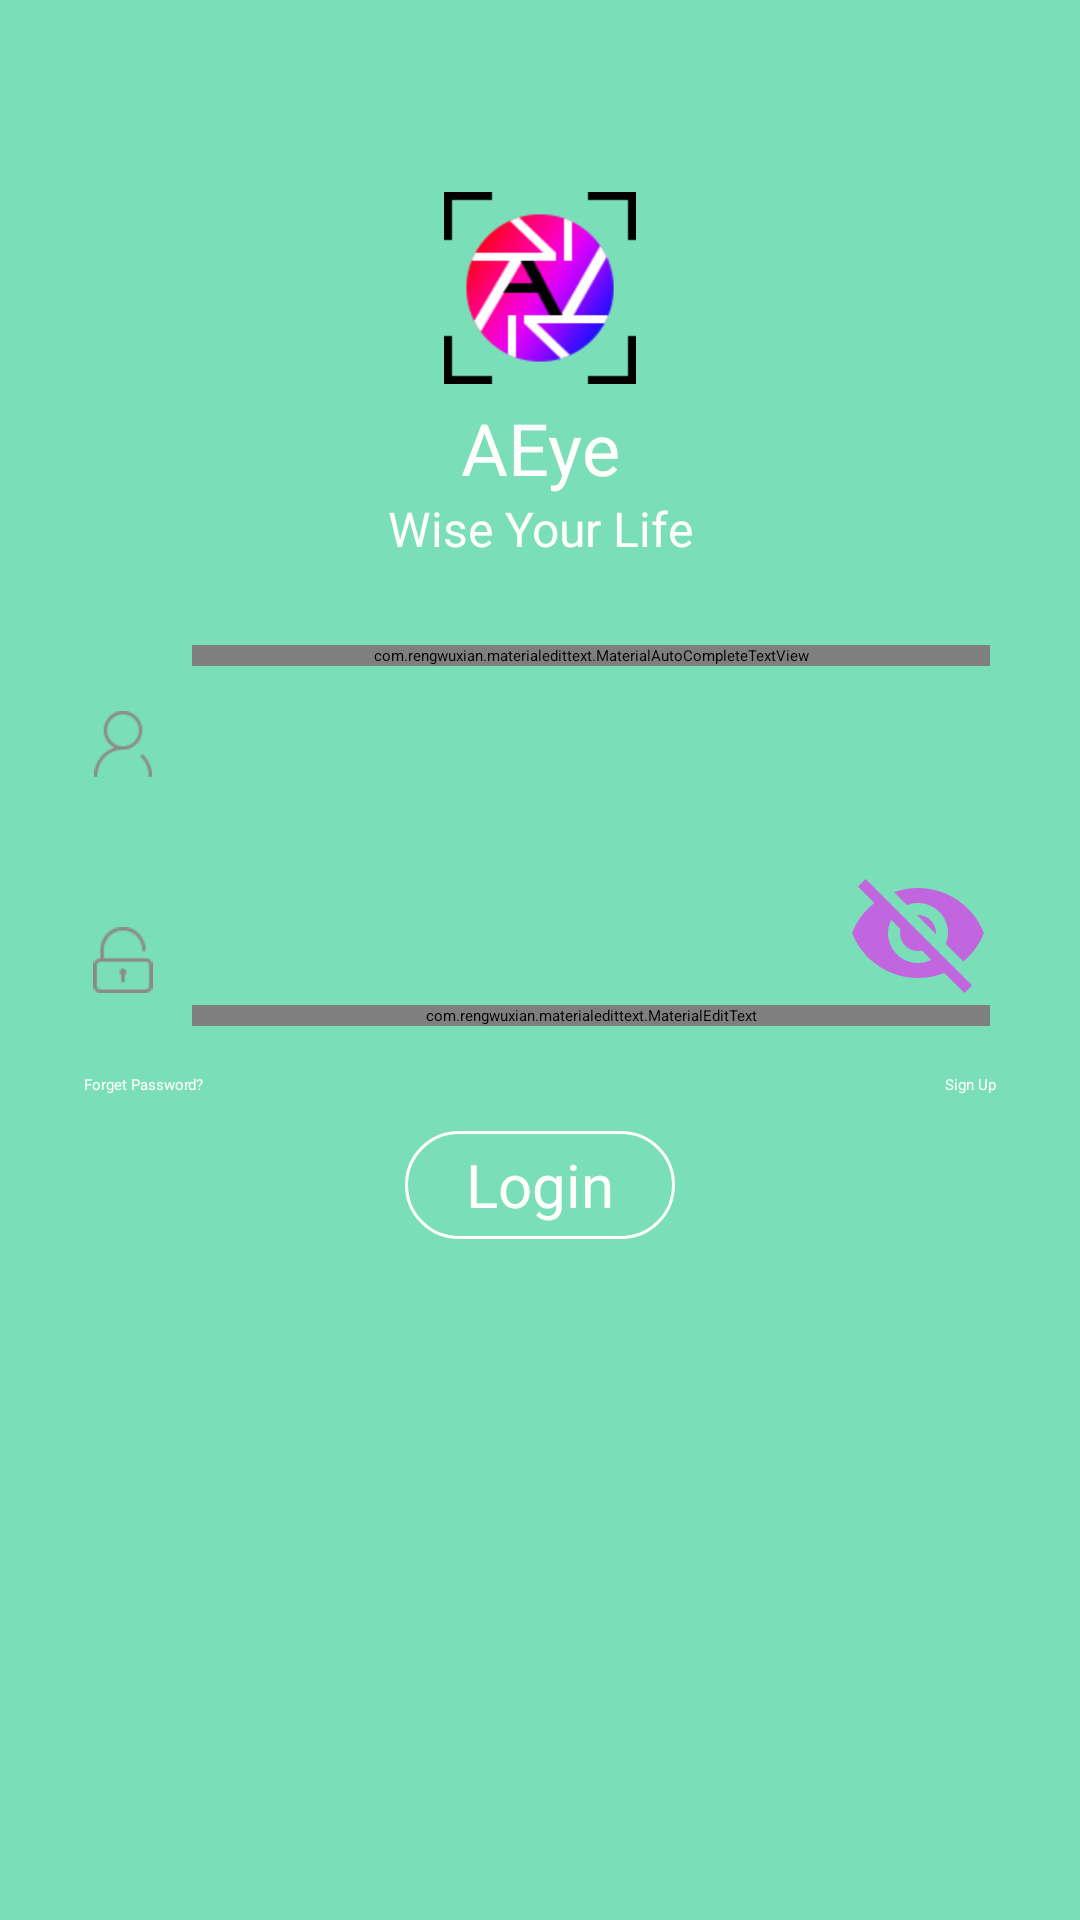

Icon bounding boxes for this 1080×1920 phone screenshot, format bbox=[x1, y1, x2, y2]:
account: bbox=[94, 711, 152, 777]
lock: bbox=[93, 927, 153, 993]
